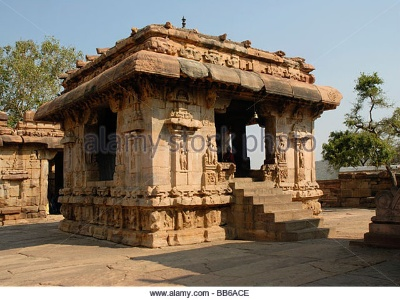mandapa: (38, 35, 336, 197)
